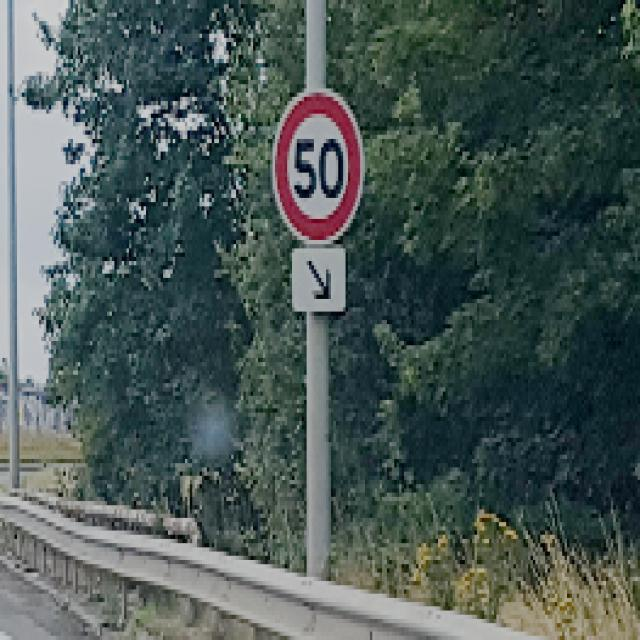speed_50: (271, 89, 367, 250)
